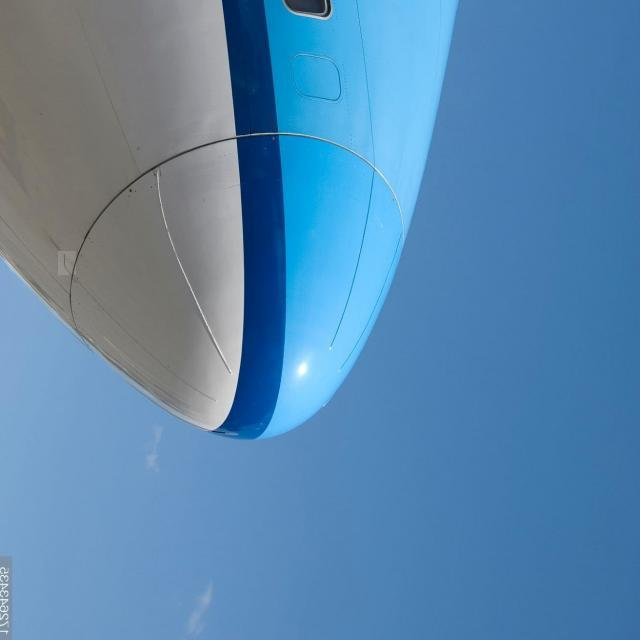crack: (59, 252, 77, 276)
